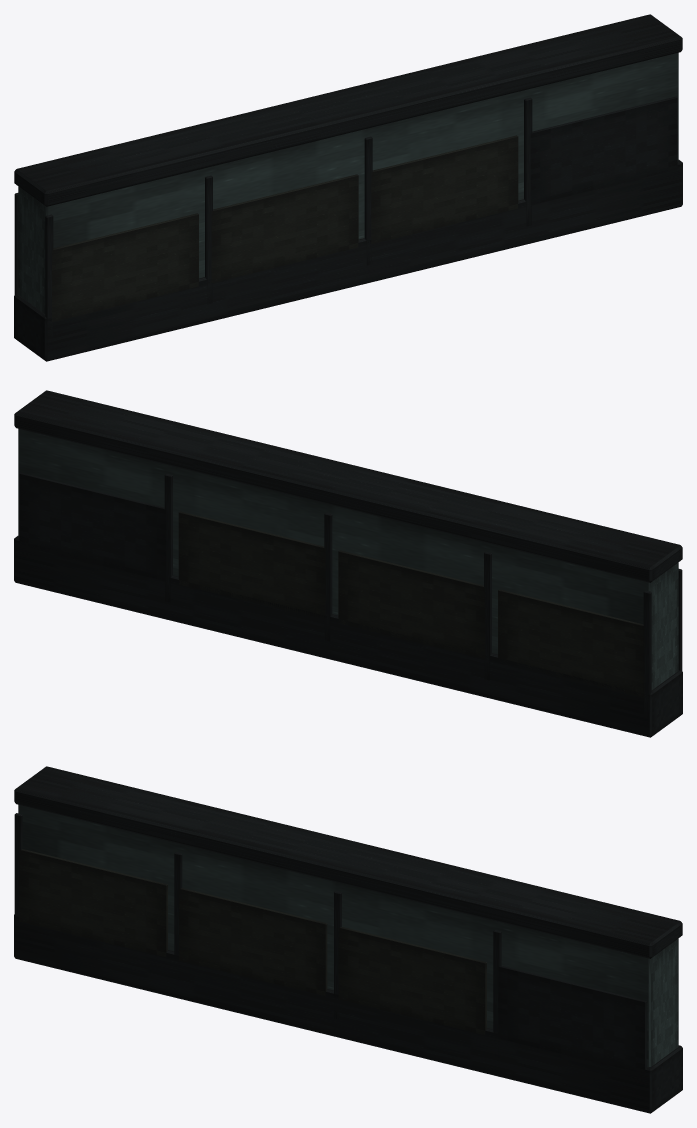
Rendered from THStage_EntryPartition.fbx.
The picture shows the model from 3 angles, top to bottom: view 1: azimuth 30°, elevation 25°; view 2: azimuth 150°, elevation 25°; view 3: azimuth 330°, elevation 25°; orthographic projection.
Parts seen in each view (by area): view 1: THStage_EntryPartition.008; view 2: THStage_EntryPartition.008; view 3: THStage_EntryPartition.008.
Boxes of the visible parts, x1,y1,x2,y2 form: THStage_EntryPartition.008: (14,14,682,361); THStage_EntryPartition.008: (14,390,682,737); THStage_EntryPartition.008: (14,766,682,1113).
Size of the model in its own units: 2.94 by 0.75 by 0.26.
1 material, 1 textured.
